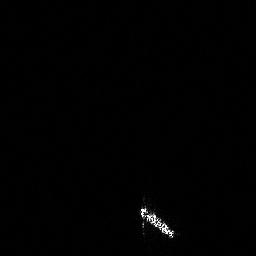ship: (135, 198, 178, 241)
